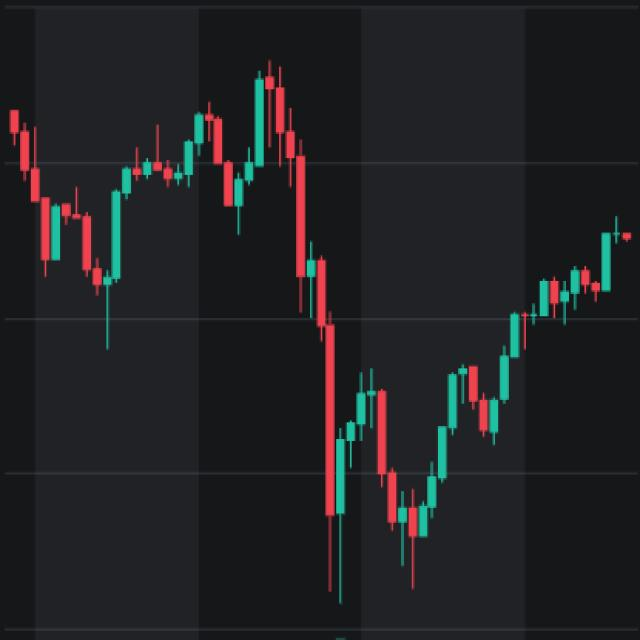Ascending-Triangle: (8, 73, 419, 400)
Inverse-Head-Shoulders: (292, 225, 534, 610)
